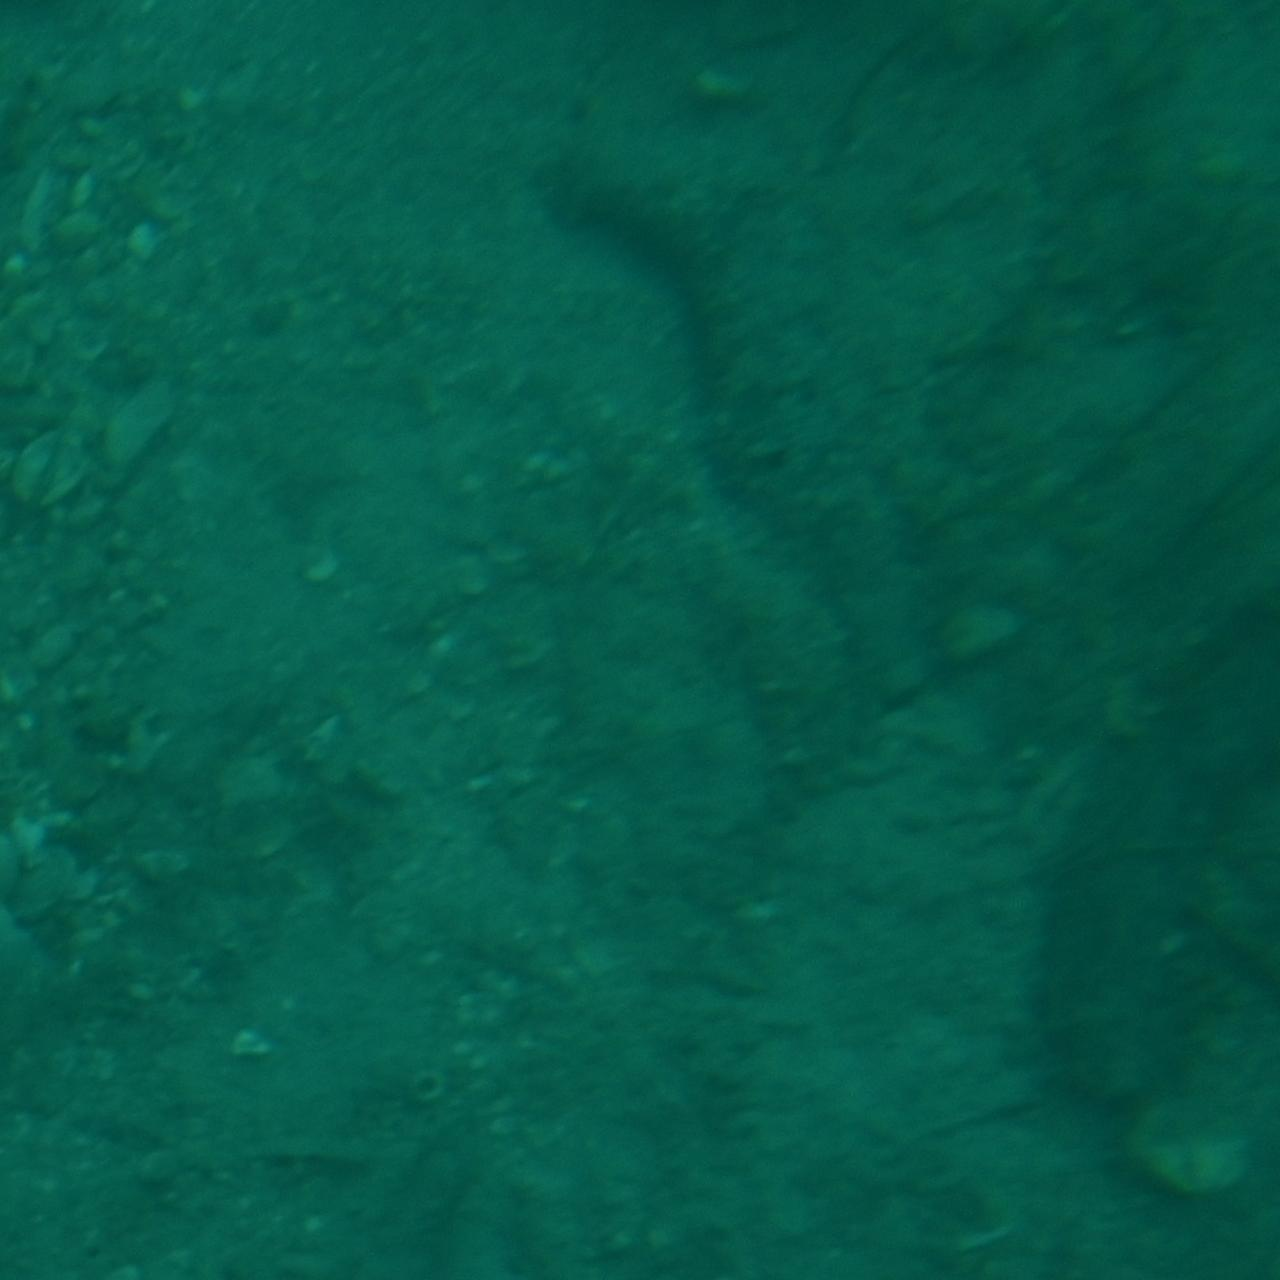Holothuria tubulosa: (554, 117, 966, 733), (1053, 576, 1279, 1137)
